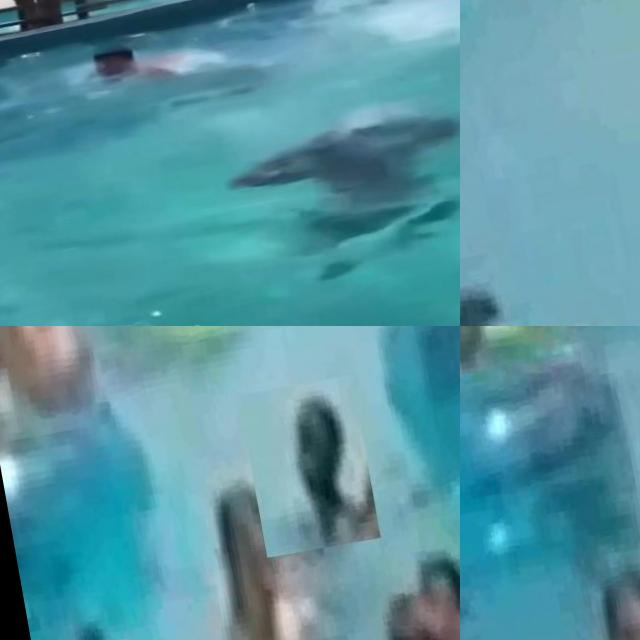drowning: (250, 90, 460, 265), (238, 374, 382, 558), (460, 240, 540, 326)
swimming: (178, 472, 330, 640), (0, 326, 117, 450), (57, 22, 188, 108), (357, 532, 460, 640), (460, 326, 574, 379), (580, 559, 640, 640), (31, 618, 181, 640)
